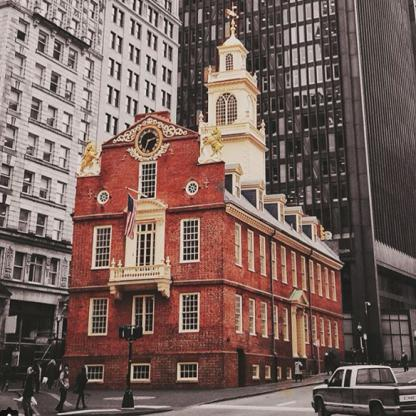State House: (41, 0, 364, 406)
